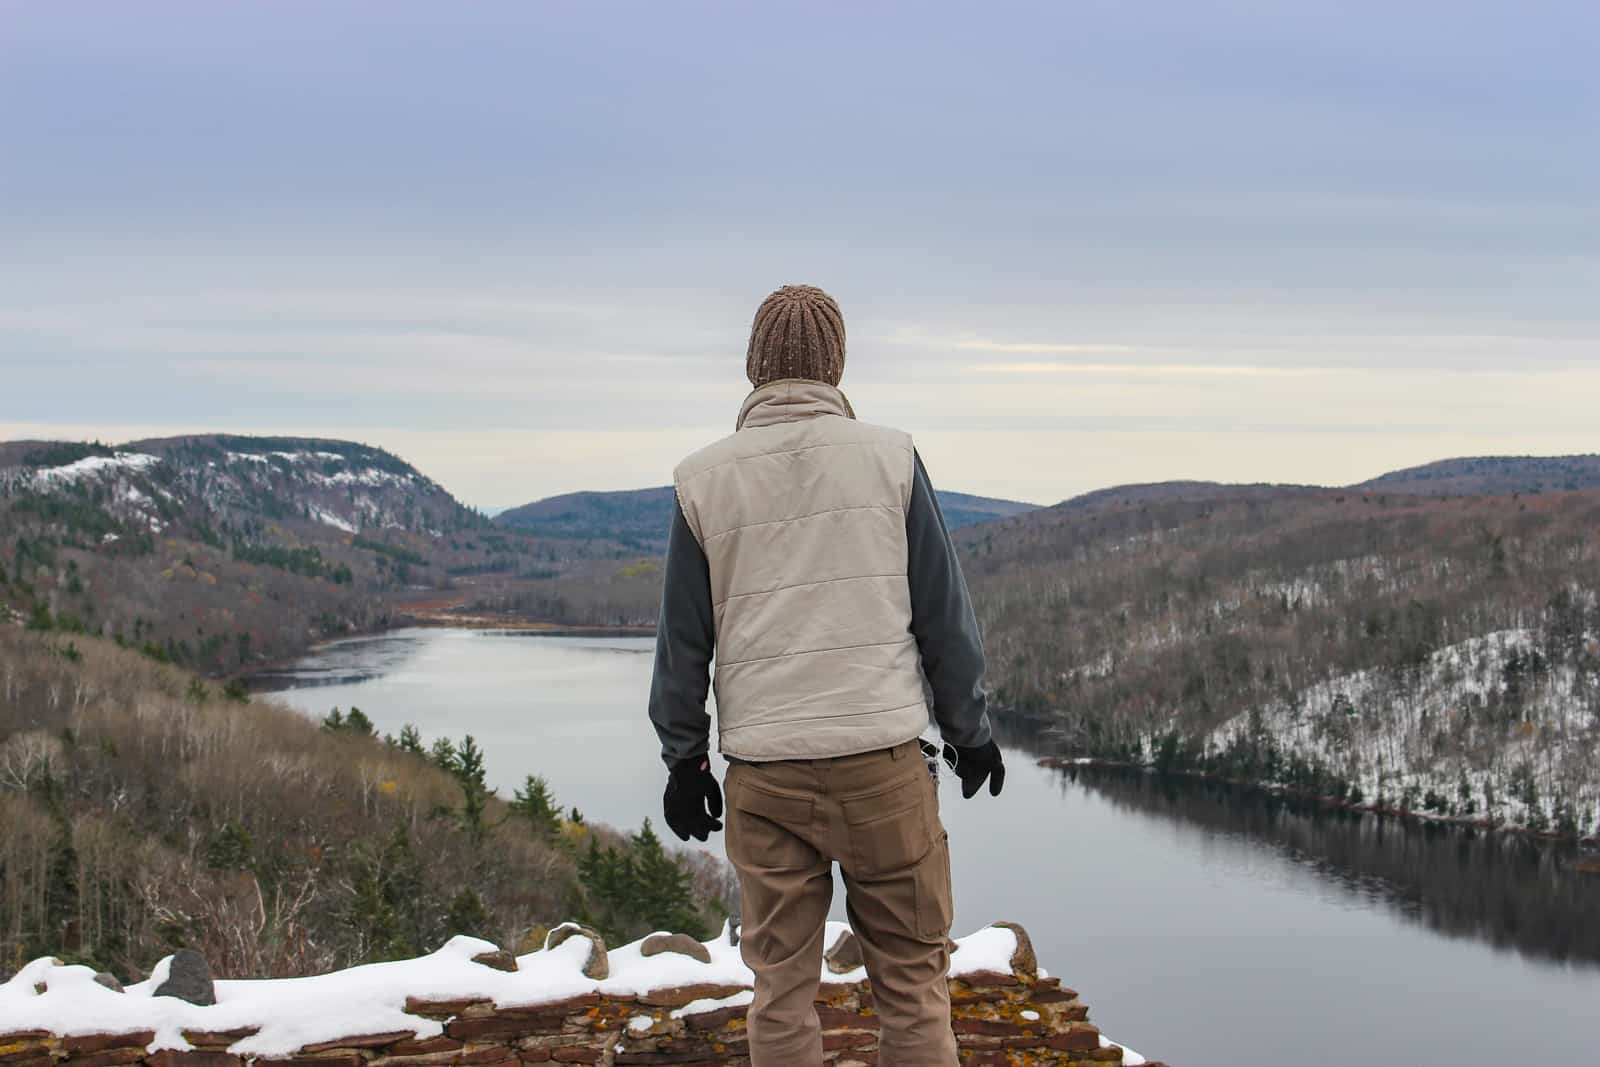Person: (648, 281, 1008, 1065)
